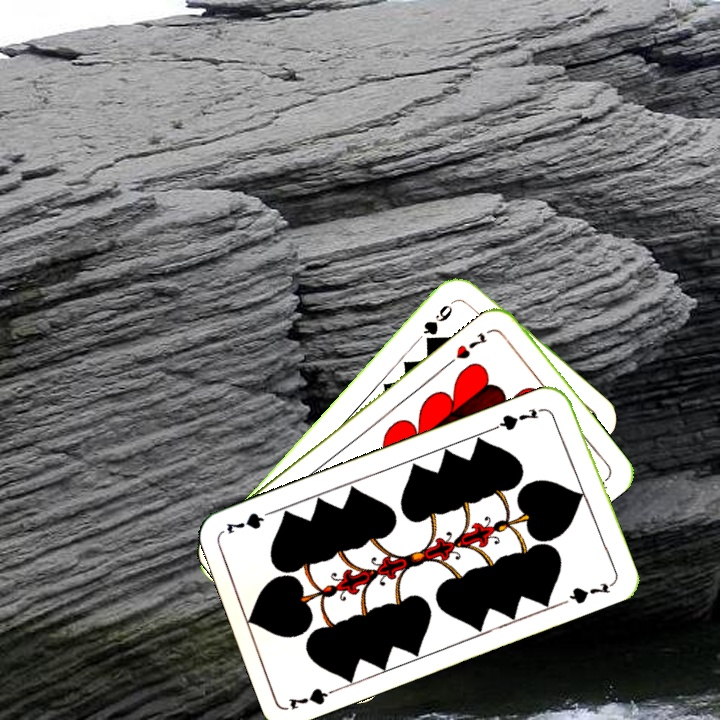G7: (284, 682, 344, 713), (491, 404, 548, 433)
G9: (419, 296, 459, 347)
H7: (452, 328, 490, 362)
